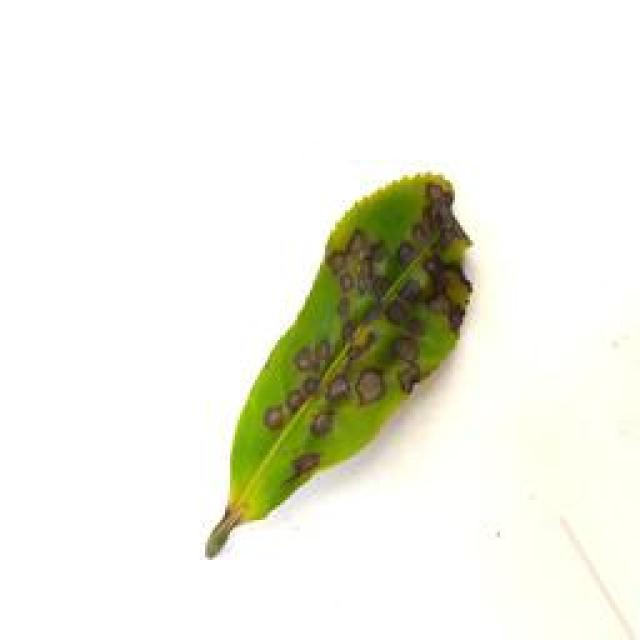Helopeltis: (191, 168, 482, 552)
